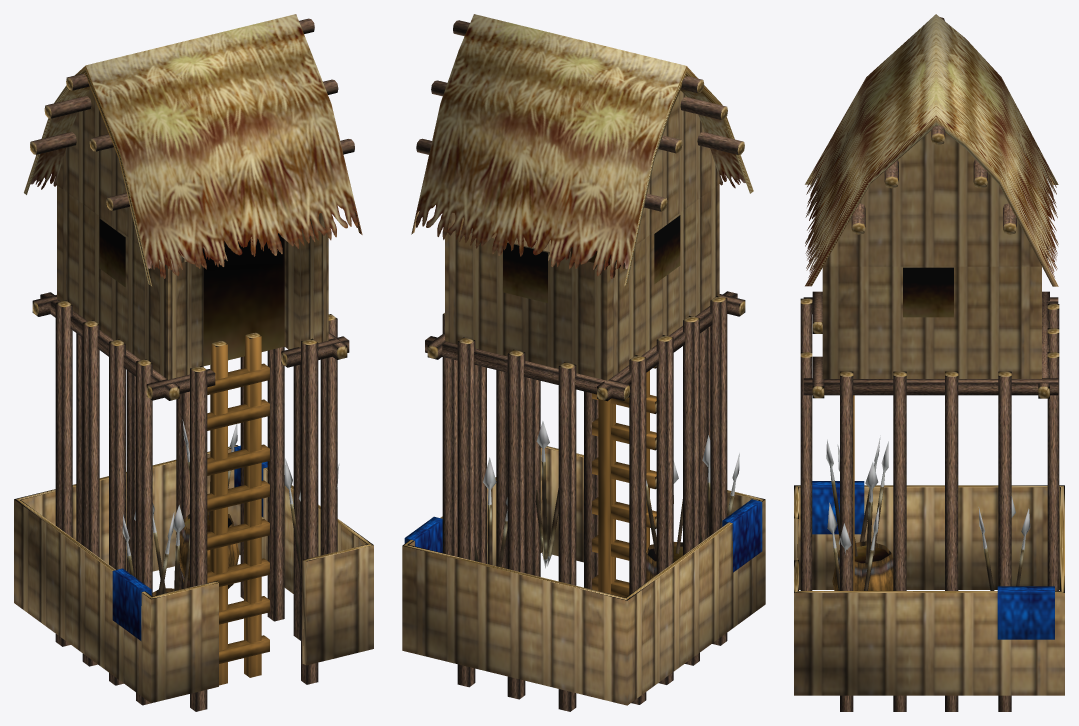
File: wood_tower.dae
3 renders of one model, left to right at view 1: azimuth 30°, elevation 25°; view 2: azimuth 150°, elevation 25°; view 3: azimuth 270°, elevation 25°, orthographic. The views are drawn at different scales.
Visible parts, largest first — view 1: wooder_tower; view 2: wooder_tower; view 3: wooder_tower.
Part boxes in pixels (box(x1,y1,x2,y2)): wooder_tower: box(14, 14, 373, 711); wooder_tower: box(402, 14, 765, 711); wooder_tower: box(794, 14, 1064, 711).
Size of the model in its own units: 8.02 by 7.87 by 19.23.
